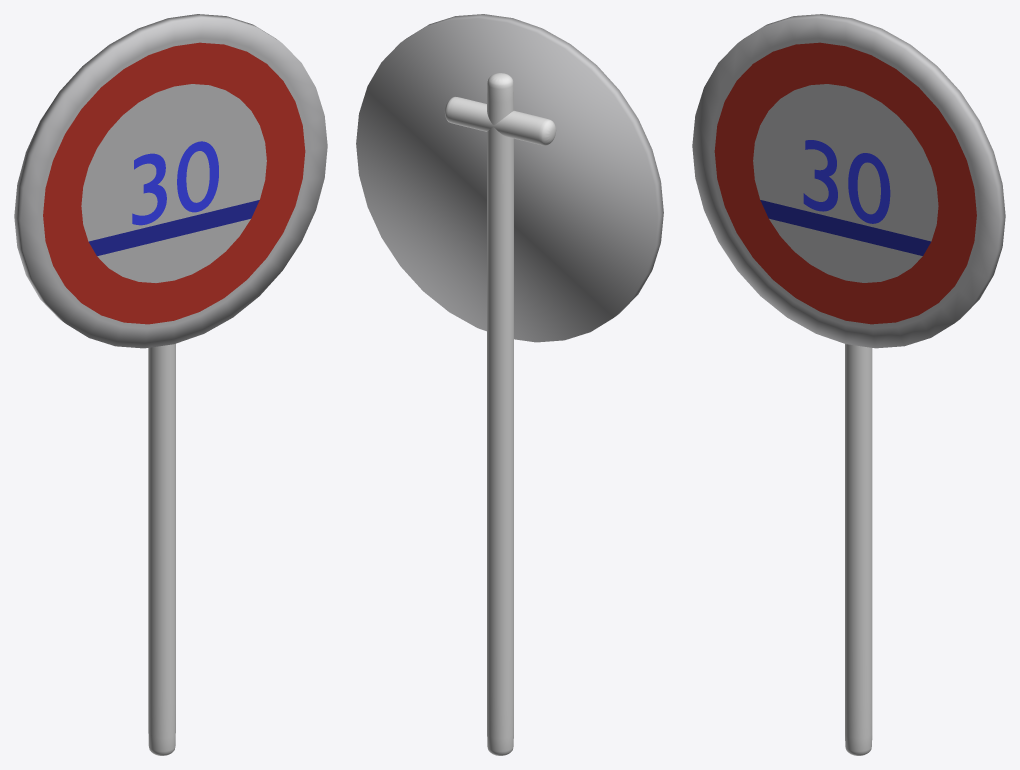
File: Min_sign.fbx
3 renders of one model, left to right at view 1: azimuth 30°, elevation 25°; view 2: azimuth 150°, elevation 25°; view 3: azimuth 330°, elevation 25°, orthographic.
Visible parts, largest first — view 1: Text.001, Pole.005; view 2: Text.001, Pole.005; view 3: Text.001, Pole.005.
Part boxes in pixels (box(x1,y1,x2,y2)): Text.001: box(14, 14, 327, 348); Pole.005: box(148, 343, 175, 755); Text.001: box(356, 14, 663, 342); Pole.005: box(445, 73, 556, 755); Text.001: box(692, 14, 1005, 348); Pole.005: box(845, 344, 872, 755).
Bounding box in the file's own units: 121 × 278 × 13.32.
